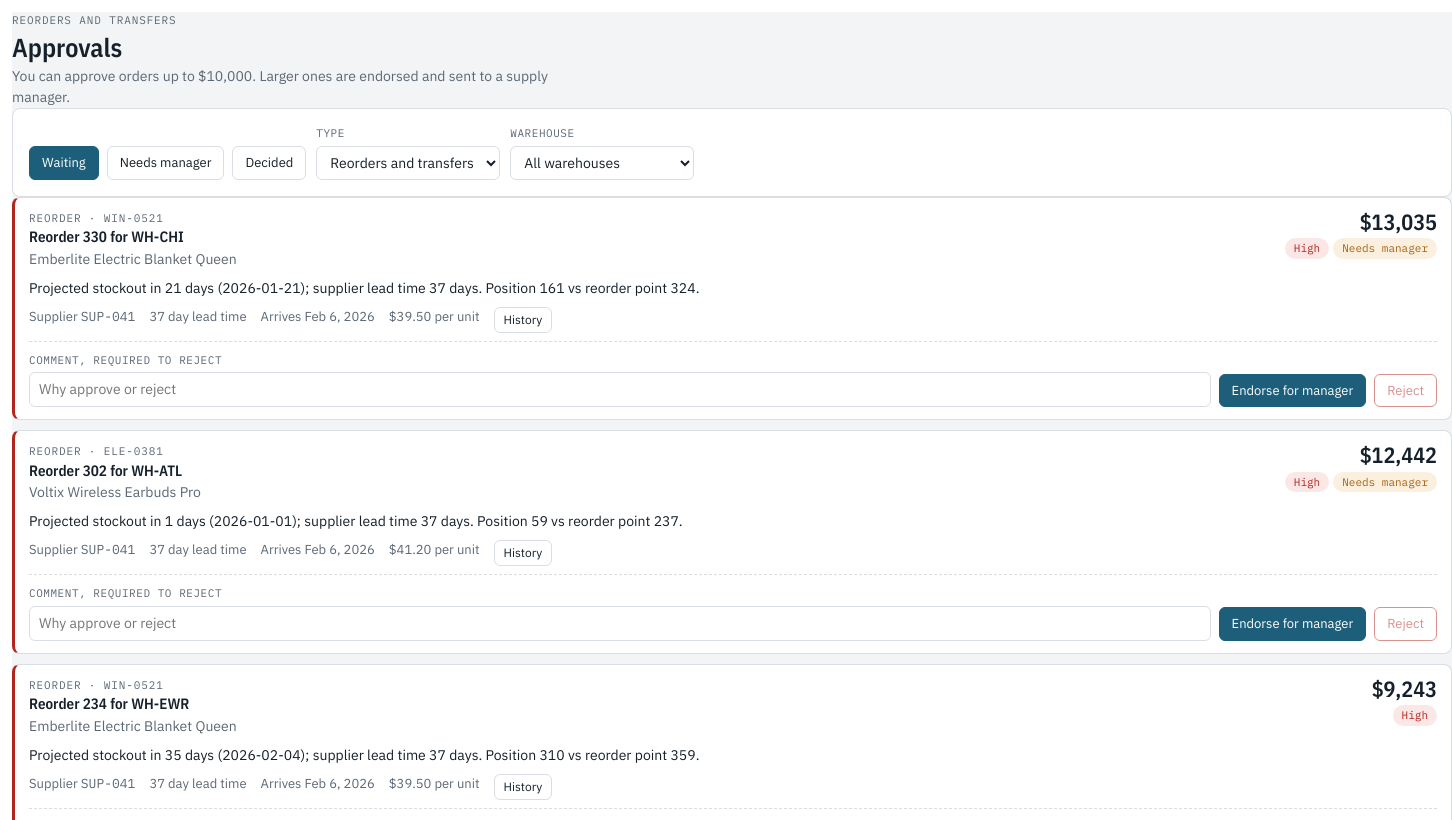
approval inbox role rules › requires a comment before rejecting
Expected: the button "Reject" below "$13,035" is disabled, 1374,374 -> 1437,407
Type "donor stock reserved" into the field labelled "Comment, required to reject" below "Reorder 330 for WH-CHI" at (620, 390), box 29,372 -> 1210,407
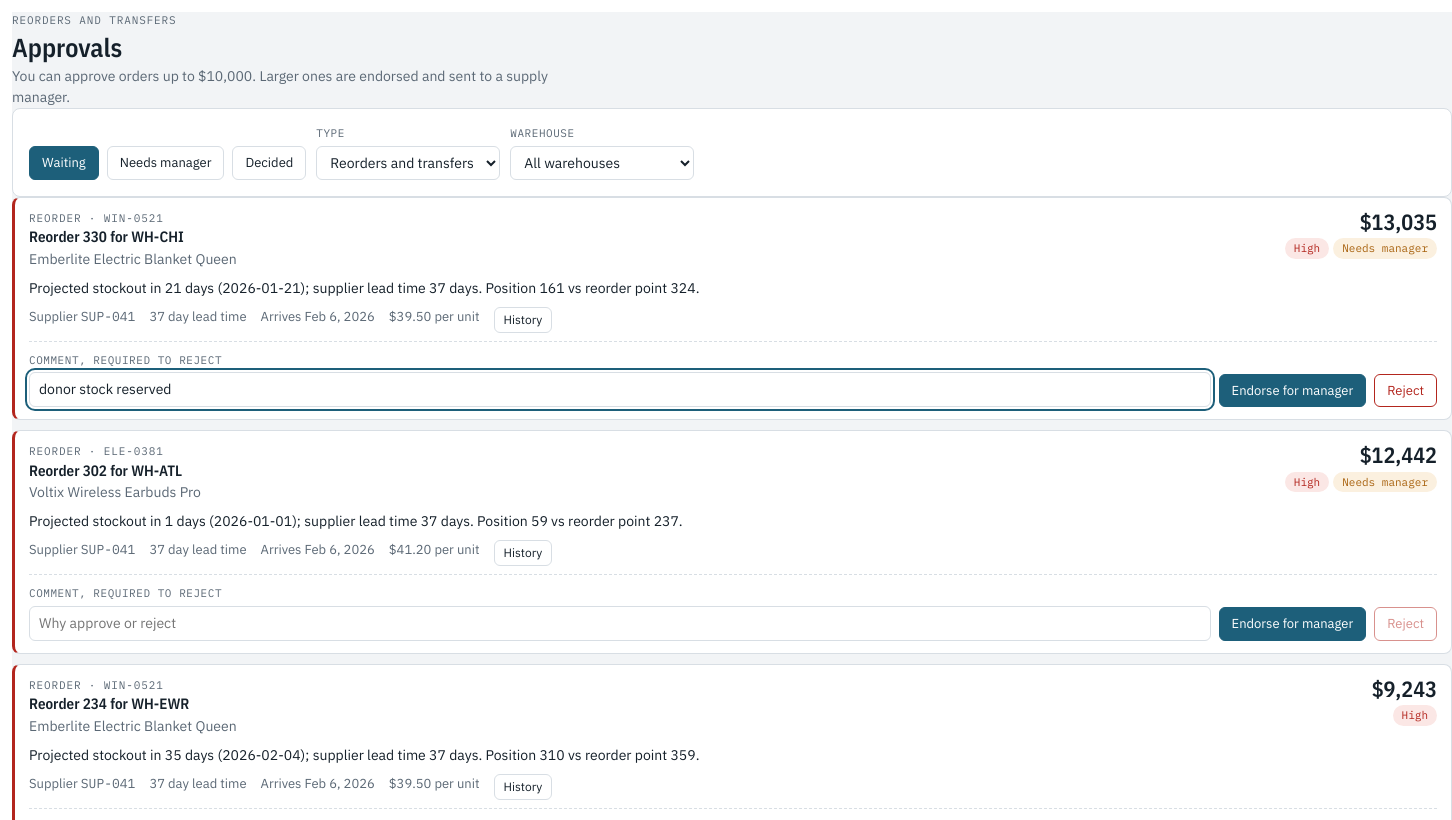
Now the button "Reject" below "$13,035" is enabled, box 1374,374 -> 1437,407
